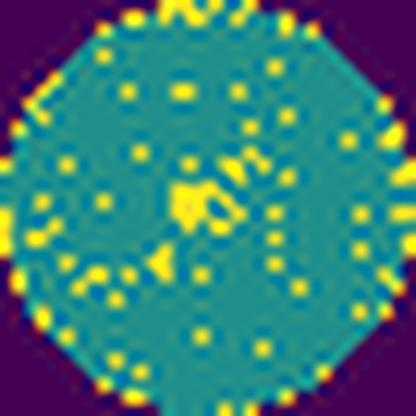Center: (166, 174, 252, 242)
